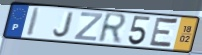5: (127, 15, 152, 46)
E: (148, 16, 180, 50)
I: (25, 7, 42, 38)
J: (52, 11, 76, 39)
R: (96, 11, 129, 46)
Z: (72, 11, 105, 42)
